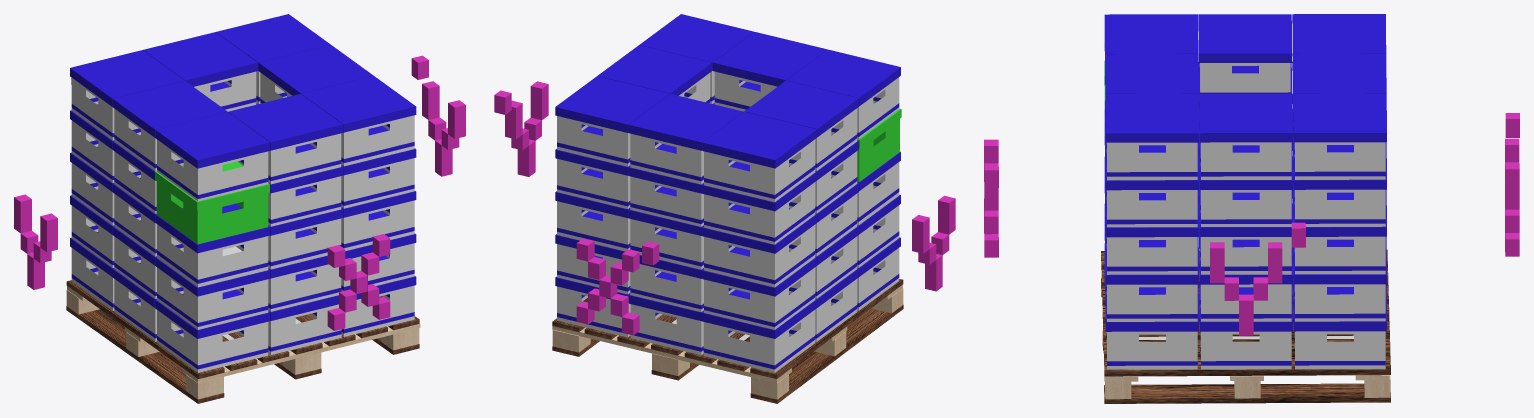
3 renders of one model, left to right at view 1: azimuth 30°, elevation 25°; view 2: azimuth 150°, elevation 25°; view 3: azimuth 270°, elevation 25°, orthographic. The views are drawn at different scales.
Parts seen in each view (by area): view 1: CajaVerde, Cube.031_1, Cube.026_1, Cube.033_1, Cube.032_1, Cube.029_1, Cube.030_1, Cube.039_0, Cube.027_1, Cube.020_0, Cube.012_0, Cube.031_0 (+53 smaller); view 2: Cube.029_1, Cube.032_1, Cube.028_1, Cube.033_1, Cube.030_1, Cube.031_1, Cube.027_1, Cube.007_0, Cube.029_0, Cube.022_0, Cube.014_0, Cube.037_0 (+53 smaller); view 3: Cube.028_1, Cube.027_1, Cube.026_1, Cube.030_1, Cube055, Cube.032_1, Cube.031_1, Cube.029_1, Cube.033_1, Cube.001_0, Cube.003_0, Cube.002_0 (+33 smaller).
Part boxes in pixels (bbox=[...]): CajaVerde: bbox=[155, 161, 269, 244]; Cube.031_1: bbox=[155, 112, 269, 198]; Cube.026_1: bbox=[301, 76, 416, 162]; Cube.033_1: bbox=[228, 94, 343, 180]; Cube.032_1: bbox=[143, 32, 257, 109]; Cube.029_1: bbox=[70, 50, 184, 137]; Cube.030_1: bbox=[112, 81, 227, 168]; Cube.039_0: bbox=[157, 224, 268, 287]; Cube.027_1: bbox=[258, 45, 373, 103]; Cube.020_0: bbox=[157, 310, 268, 372]; Cube.012_0: bbox=[157, 267, 268, 329]; Cube.031_0: bbox=[157, 139, 268, 201]; Cube.029_1: bbox=[702, 111, 816, 198]; Cube.032_1: bbox=[628, 94, 743, 181]; Cube.028_1: bbox=[555, 76, 669, 163]; Cube.033_1: bbox=[713, 32, 827, 109]; Cube.030_1: bbox=[744, 80, 858, 167]; Cube.031_1: bbox=[786, 49, 900, 136]; Cube.027_1: bbox=[597, 45, 711, 103]; Cube.007_0: bbox=[703, 310, 815, 372]; Cube.029_0: bbox=[704, 139, 815, 202]; Cube.022_0: bbox=[704, 224, 815, 287]; Cube.014_0: bbox=[704, 267, 815, 329]; Cube.037_0: bbox=[704, 182, 815, 244]; Cube.028_1: bbox=[1293, 93, 1386, 176]; Cube.027_1: bbox=[1199, 93, 1292, 176]; Cube.026_1: bbox=[1105, 93, 1198, 176]; Cube.030_1: bbox=[1198, 14, 1292, 93]; Cube055: bbox=[1104, 383, 1390, 403]; Cube.032_1: bbox=[1293, 53, 1386, 93]; Cube.031_1: bbox=[1104, 14, 1198, 54]; Cube.029_1: bbox=[1292, 14, 1386, 55]; Cube.033_1: bbox=[1105, 54, 1198, 93]; Cube.001_0: bbox=[1106, 331, 1197, 369]; Cube.003_0: bbox=[1294, 331, 1385, 369]; Cube.002_0: bbox=[1200, 331, 1291, 369].
Size of the model in its own units: 4.22 by 2.33 by 4.21.
Materials: 82 (2 with a texture image).
